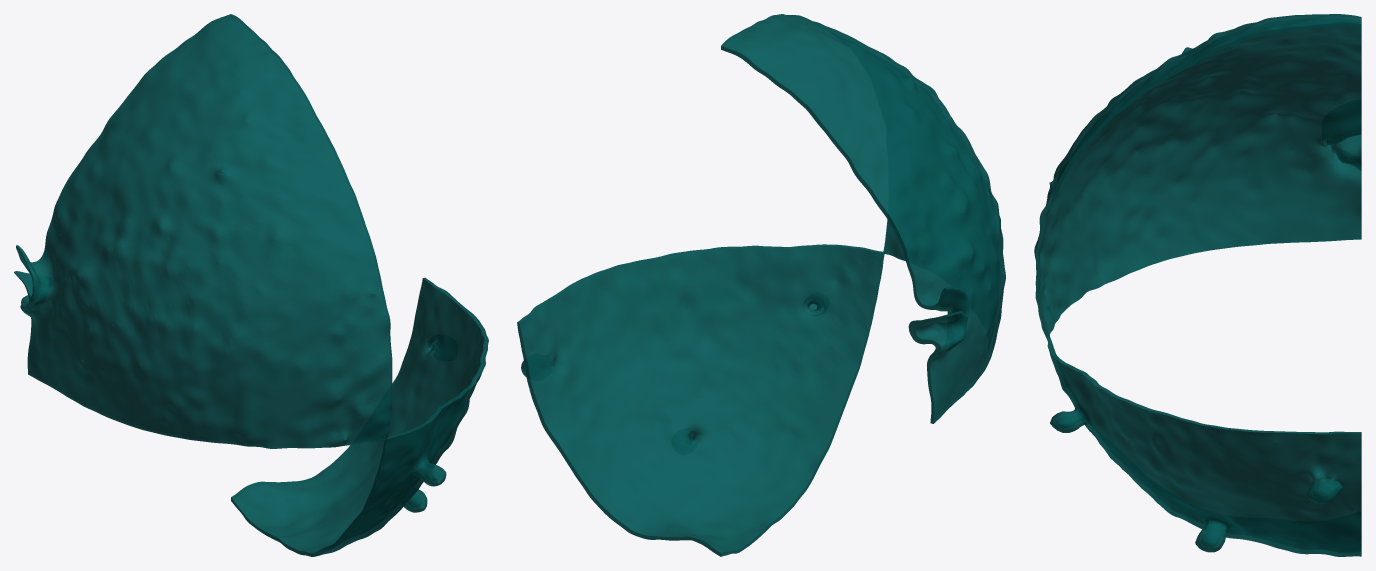
File: Scalp_quadrants.obj
The picture shows the model from 3 angles, left to right: view 1: azimuth 30°, elevation 25°; view 2: azimuth 150°, elevation 25°; view 3: azimuth 270°, elevation 25°; orthographic projection. The views are drawn at different scales.
Parts seen in each view (by area): view 1: grp1; view 2: grp1; view 3: grp1.
Boxes of the visible parts, box(x1,y1,x2,y2) form: grp1: box(14, 14, 488, 556); grp1: box(517, 14, 1005, 556); grp1: box(1034, 14, 1361, 556).
Bounding box in the file's own units: 172 × 193 × 113.
